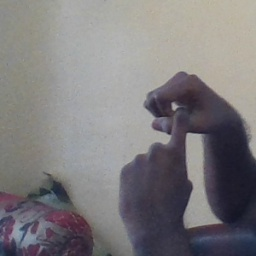Q: (117, 69, 219, 214)
